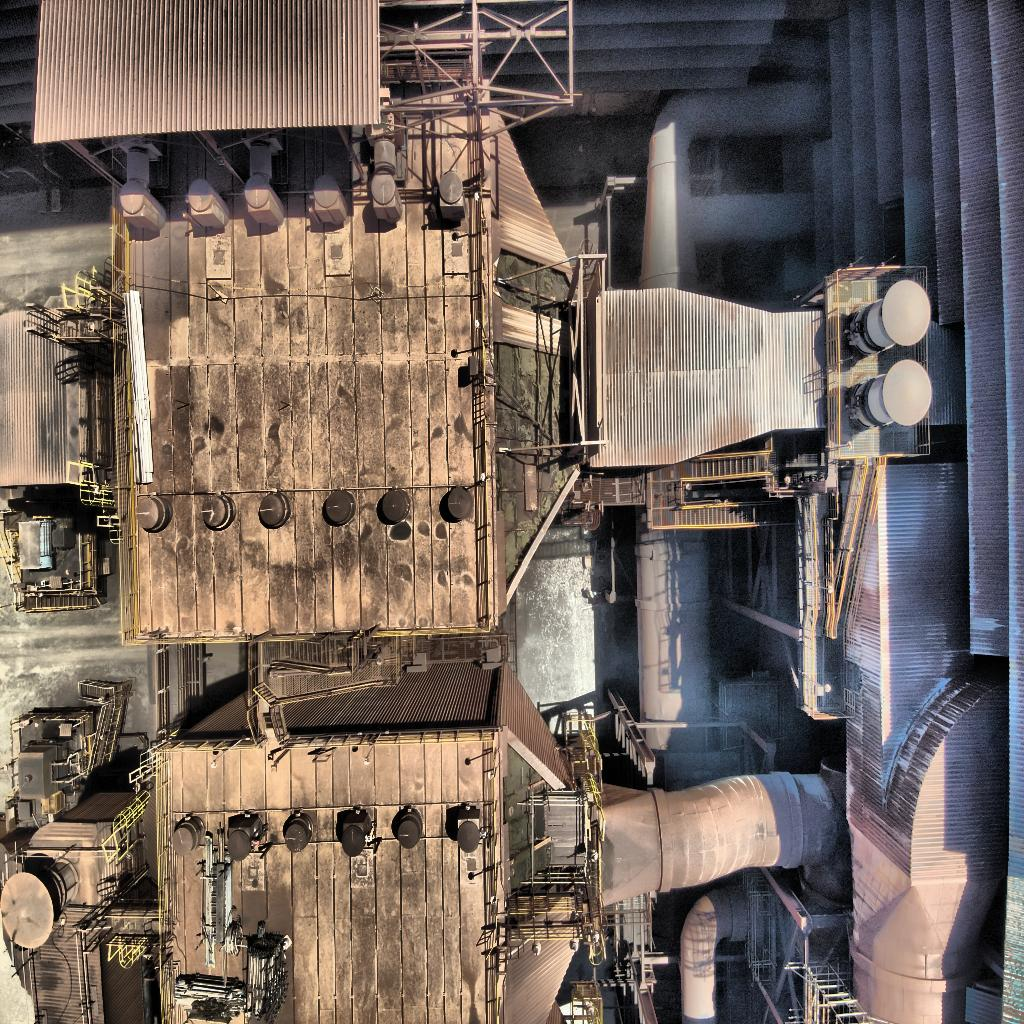Failures: (486, 338, 580, 604), (498, 722, 563, 941), (490, 232, 580, 333)
